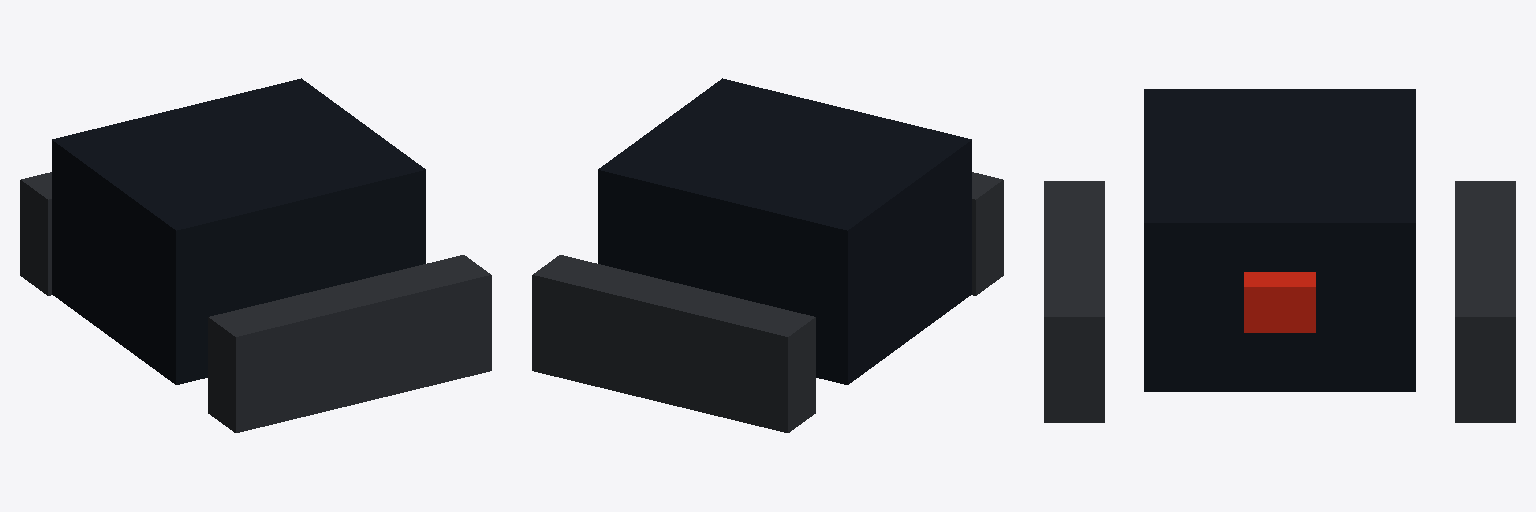
robot.urdf — skala:
<?xml version='1.0' encoding='utf-8'?>
<robot name="skala">
  <link name="base_footprint" />
  <link name="base_link">
    <visual>
      <origin xyz="-0.015 0 0.06" />
      <geometry>
        <box size="0.22 0.19 0.13" />
      </geometry>
      <material name="base_link_colour">
        <color rgba="0.1 0.12 0.15 1" />
      </material>
    </visual>
  </link>
  <joint name="base_link_fixed" type="fixed">
    <parent link="base_footprint" />
    <child link="base_link" />
    <origin xyz="0 0 0.0204111869" rpy="0 0 0" />
  </joint>
  <link name="left_track">
    <visual>
      <origin xyz="0 0 0" />
      <geometry>
        <box size="0.225 0.042 0.081" />
      </geometry>
      <material name="left_track_colour">
        <color rgba="0.22 0.23 0.25 1" />
      </material>
    </visual>
  </link>
  <joint name="left_track_fixed" type="fixed">
    <parent link="base_link" />
    <child link="left_track" />
    <origin xyz="0 0.143 0.02" rpy="0 0 0" />
  </joint>
  <link name="right_track">
    <visual>
      <origin xyz="0 0 0" />
      <geometry>
        <box size="0.225 0.042 0.081" />
      </geometry>
      <material name="right_track_colour">
        <color rgba="0.22 0.23 0.25 1" />
      </material>
    </visual>
  </link>
  <joint name="right_track_fixed" type="fixed">
    <parent link="base_link" />
    <child link="right_track" />
    <origin xyz="0 -0.143 0.02" rpy="0 0 0" />
  </joint>
  <link name="camera_pan_link">
    </link>
  <joint name="camera_pan_joint" type="revolute">
    <parent link="base_link" />
    <child link="camera_pan_link" />
    <origin xyz="0.108 0 0.033" rpy="0 0 0" />
    <axis xyz="0 0 1" />
    <limit lower="-1.5707963267948966" upper="1.5707963267948966" effort="1" velocity="1.5" />
  </joint>
  <link name="camera_tilt_link">
    <visual>
      <origin xyz="0.005 0 0" />
      <geometry>
        <box size="0.025 0.05 0.035" />
      </geometry>
      <material name="camera_tilt_link_colour">
        <color rgba="0.85 0.2 0.12 1" />
      </material>
    </visual>
  </link>
  <joint name="camera_tilt_joint" type="revolute">
    <parent link="camera_pan_link" />
    <child link="camera_tilt_link" />
    <origin xyz="0 0 0.039" rpy="0 0 0" />
    <axis xyz="0 1 0" />
    <limit lower="-0.7853981633974483" upper="0.5235987755982988" effort="1" velocity="1.5" />
  </joint>
  <link name="camera_optical_frame" />
  <joint name="camera_optical_frame_fixed" type="fixed">
    <parent link="camera_tilt_link" />
    <child link="camera_optical_frame" />
    <origin xyz="0.008 0 0.002" rpy="-1.57079633 0 -1.57079633" />
  </joint>
  <link name="lidar_link" />
  <joint name="lidar_link_fixed" type="fixed">
    <parent link="base_link" />
    <child link="lidar_link" />
    <origin xyz="0.008 0 0.1885" rpy="0 0 0" />
  </joint>
  <link name="imu_link" />
  <joint name="imu_link_fixed" type="fixed">
    <parent link="base_link" />
    <child link="imu_link" />
    <origin xyz="-0.064 0 0.086" rpy="0 0 0" />
  </joint>
</robot>

--- Facts derived from the render (not from the file) ---
The picture shows the robot from 3 angles, left to right: view 1: azimuth 30°, elevation 25°; view 2: azimuth 150°, elevation 25°; view 3: azimuth 270°, elevation 25°; orthographic projection.
Robot: skala — 9 links, 8 joints (2 revolute, 6 fixed); root link base_footprint; default pose: every joint at zero.
Visible links, largest first — view 1: base_link, right_track, left_track; view 2: base_link, left_track, right_track; view 3: base_link, left_track, right_track, camera_tilt_link.
Boxes of the visible links, x1,y1,x2,y2 form: base_link: (52,78,425,384); right_track: (208,255,491,432); left_track: (20,172,51,295); base_link: (598,78,971,384); left_track: (532,255,815,432); right_track: (972,172,1003,295); base_link: (1144,89,1415,391); left_track: (1455,181,1515,422); right_track: (1044,181,1104,422); camera_tilt_link: (1244,272,1315,332).
Size in the robot's own frame: 0.2505 by 0.328 by 0.1455 metres.
Geometry: primitives only (box / cylinder / sphere), no mesh files.
